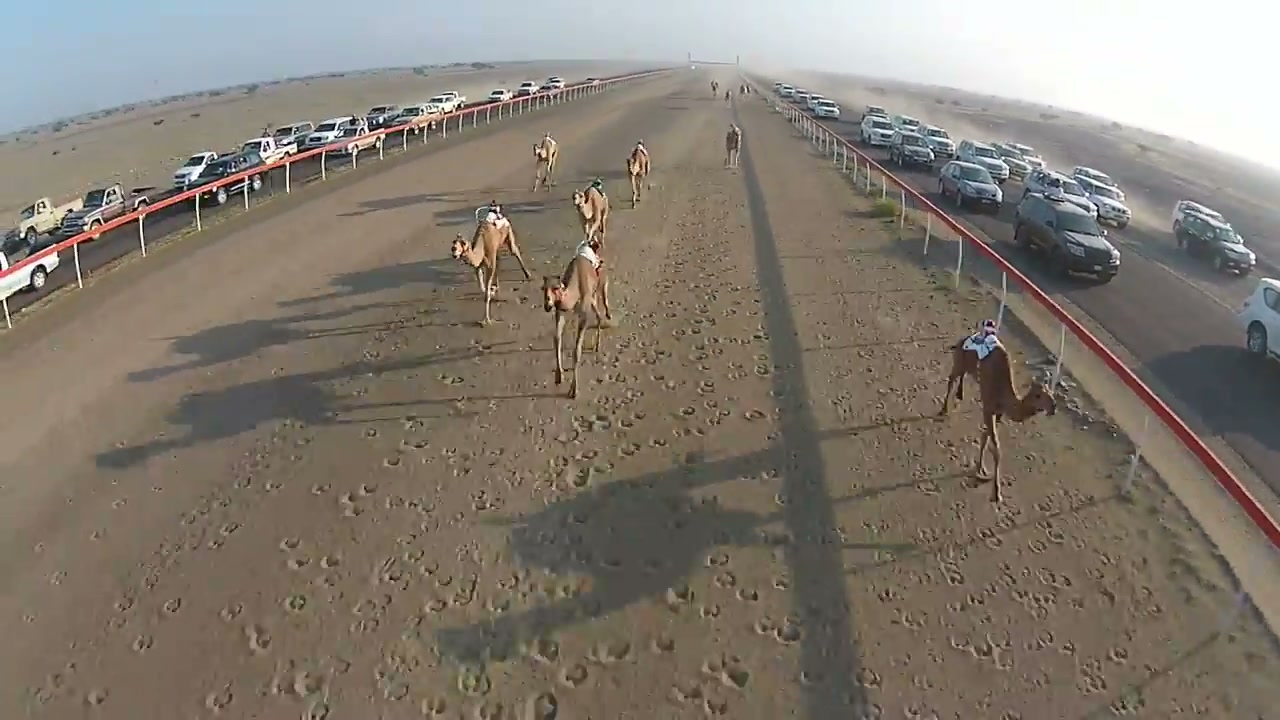animal_footprint: (40, 312, 376, 713), (208, 320, 499, 709), (652, 193, 808, 704), (324, 386, 571, 702), (448, 366, 653, 719), (930, 435, 1150, 704)
